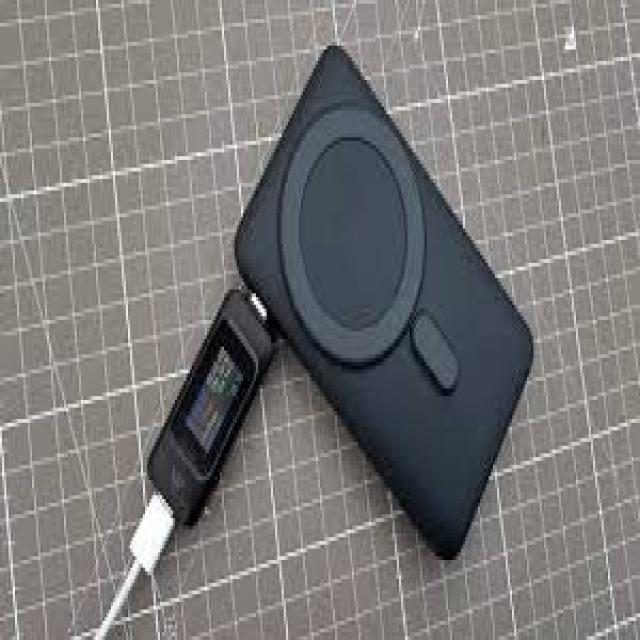power_bank: (238, 44, 532, 568)
